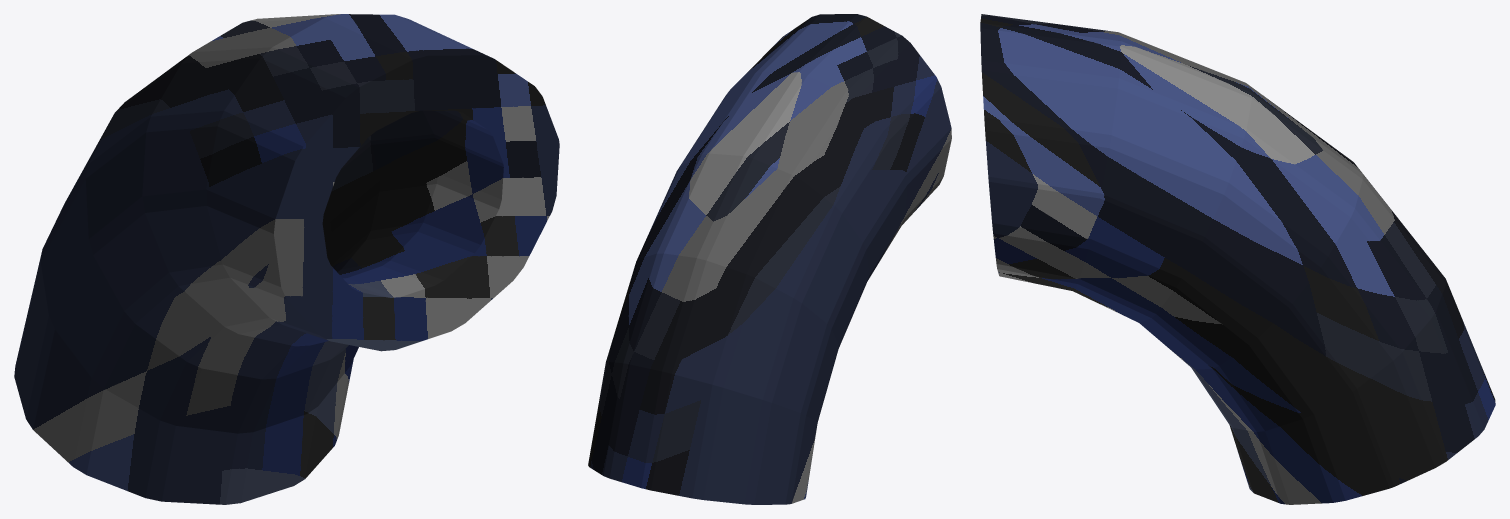
The model's file is SnolfTube3.fbx.
The picture shows the model from 3 angles, left to right: view 1: azimuth 30°, elevation 25°; view 2: azimuth 150°, elevation 25°; view 3: azimuth 270°, elevation 25°; orthographic projection. The views are drawn at different scales.
Parts seen in each view (by area): view 1: Cube; view 2: Cube; view 3: Cube.
Boxes of the visible parts, box(x1,y1,x2,y2) form: Cube: box(14, 14, 559, 504); Cube: box(588, 14, 951, 504); Cube: box(980, 14, 1495, 504).
Bounding box in the file's own units: 1019 × 1928 × 2007.
